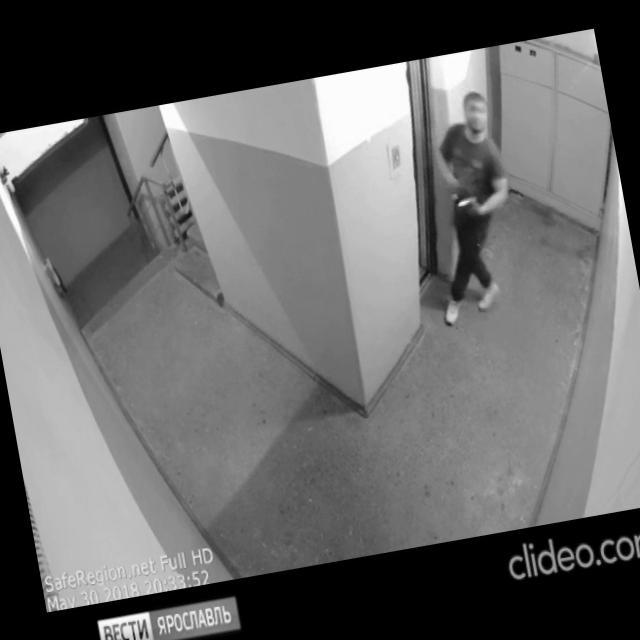gun: (452, 188, 482, 221)
person with a gun: (404, 84, 535, 334)
